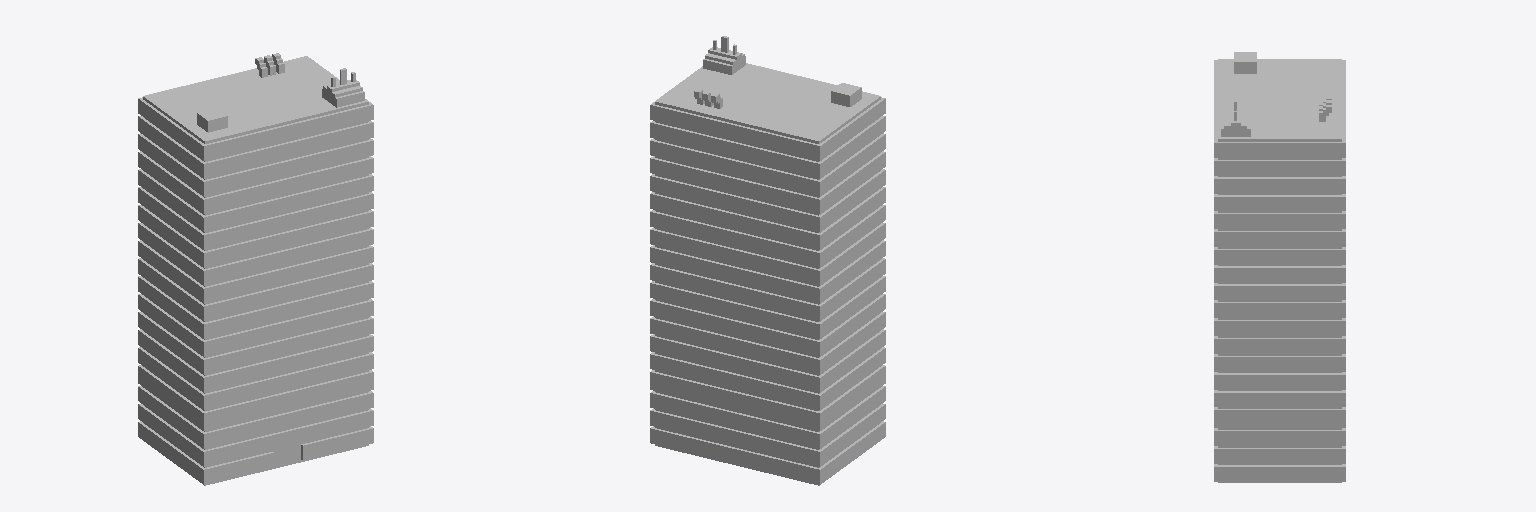
File: Building2.obj
3 renders of one model, left to right at view 1: azimuth 30°, elevation 25°; view 2: azimuth 150°, elevation 25°; view 3: azimuth 270°, elevation 25°, orthographic.
Visible parts, largest first — view 1: object 1; view 2: object 1; view 3: object 1.
Boxes of the visible parts, box(x1,y1,x2,y2) form: object 1: box(138, 53, 373, 485); object 1: box(650, 36, 885, 485); object 1: box(1214, 52, 1345, 482).
Size of the model in its own units: 6 by 12.6 by 4.